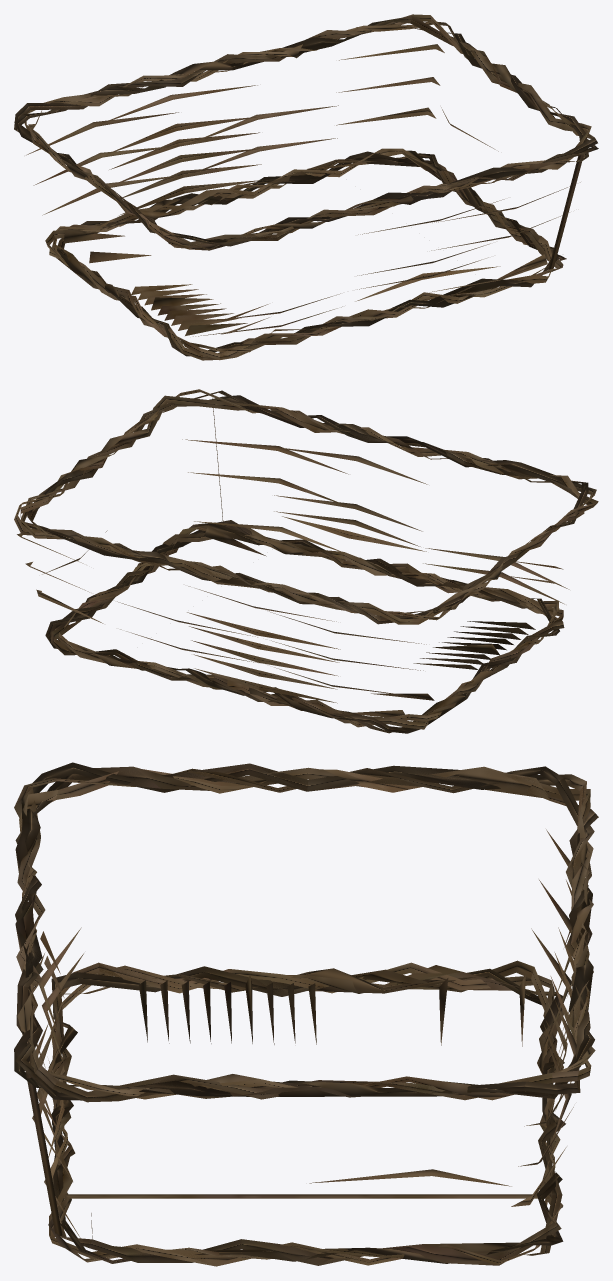
Rendered from wicker_basket_01.gltf.
The picture shows the model from 3 angles, top to bottom: view 1: azimuth 30°, elevation 25°; view 2: azimuth 150°, elevation 25°; view 3: azimuth 270°, elevation 25°; orthographic projection. The views are drawn at different scales.
Visible parts, largest first — view 1: wicker_basket_01; view 2: wicker_basket_01; view 3: wicker_basket_01.
Part boxes in pixels (bbox=[...]): wicker_basket_01: bbox=[14, 14, 598, 360]; wicker_basket_01: bbox=[14, 389, 598, 733]; wicker_basket_01: bbox=[14, 762, 598, 1266].
Bounding box in the file's own units: 0.3827 × 0.1172 × 0.2928.
1 material, 1 textured.
